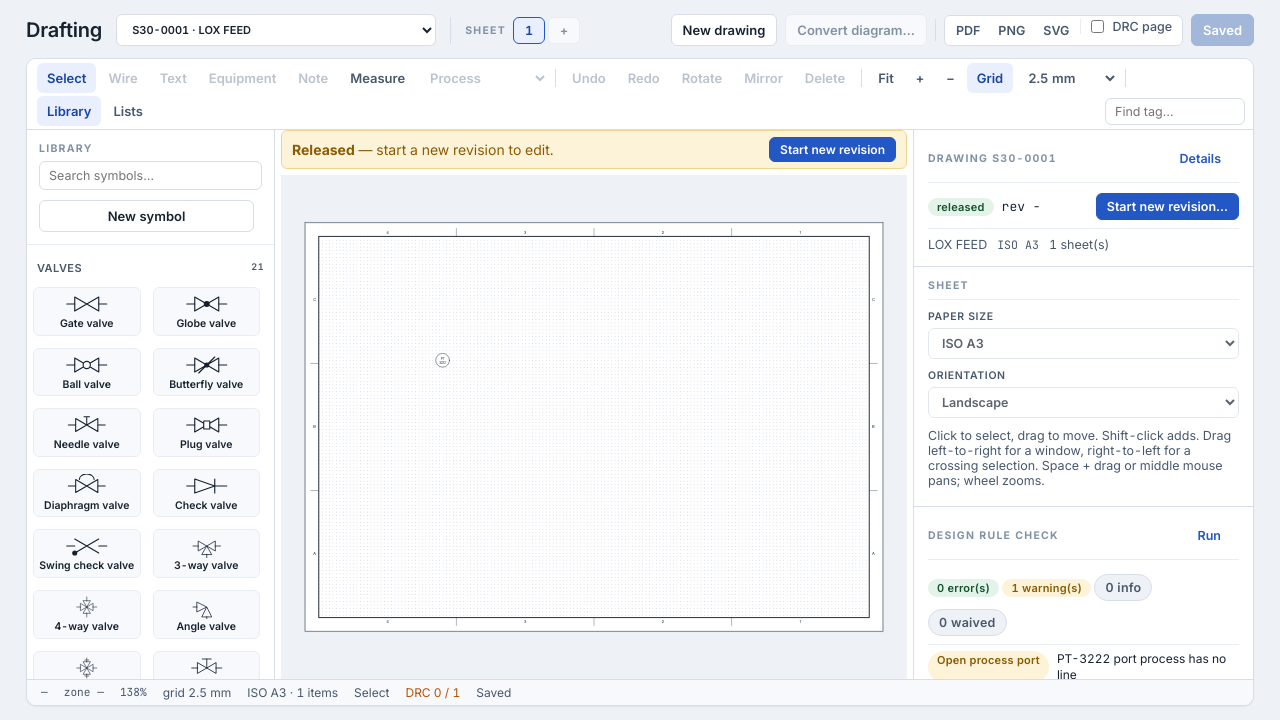
Test: DraftingPage duplicate drawing › copies a released drawing within the project and opens the copy
Click the button "Details".
click(1200, 158)  # box [1170,146,1231,171]
(page scrolled)
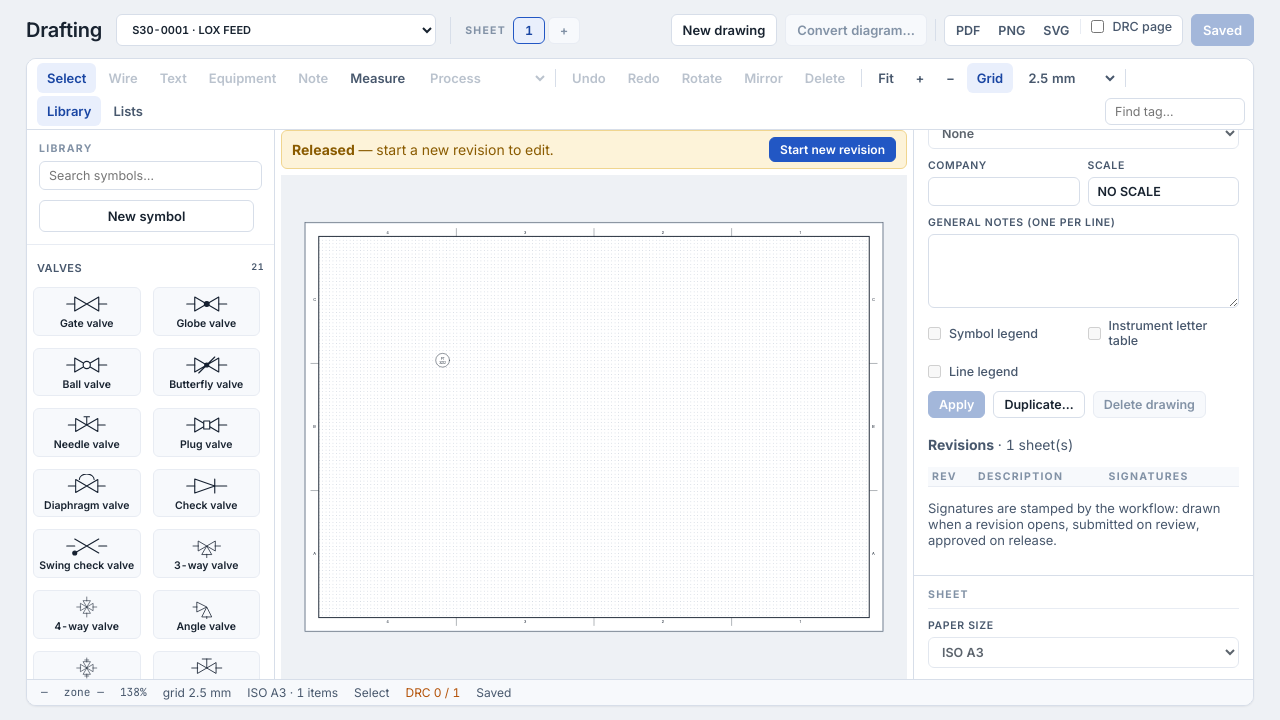
Click the button "Duplicate…".
click(1039, 404)  # box [993,391,1085,418]
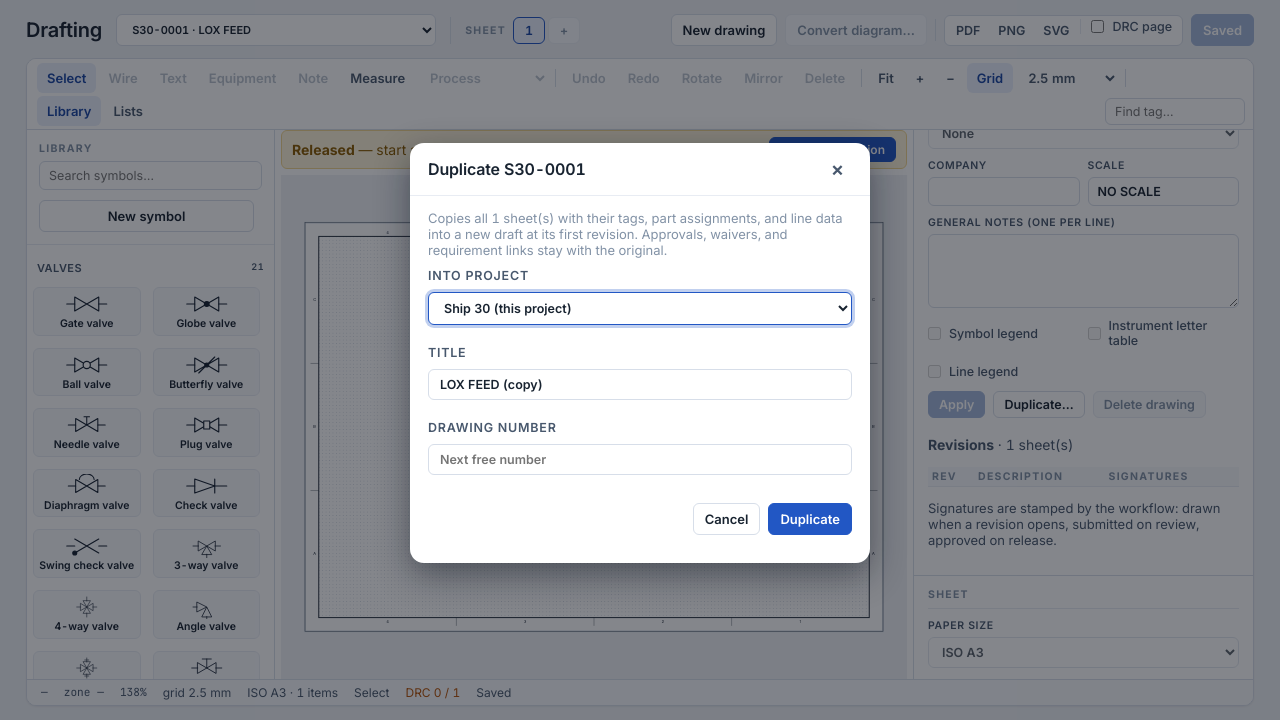
Expected: the field labelled "Title" holds "LOX FEED (copy)"
Replace the text in the field labelled "Title" with "LOX FEED B" at (640, 384), box [428,369,852,400]
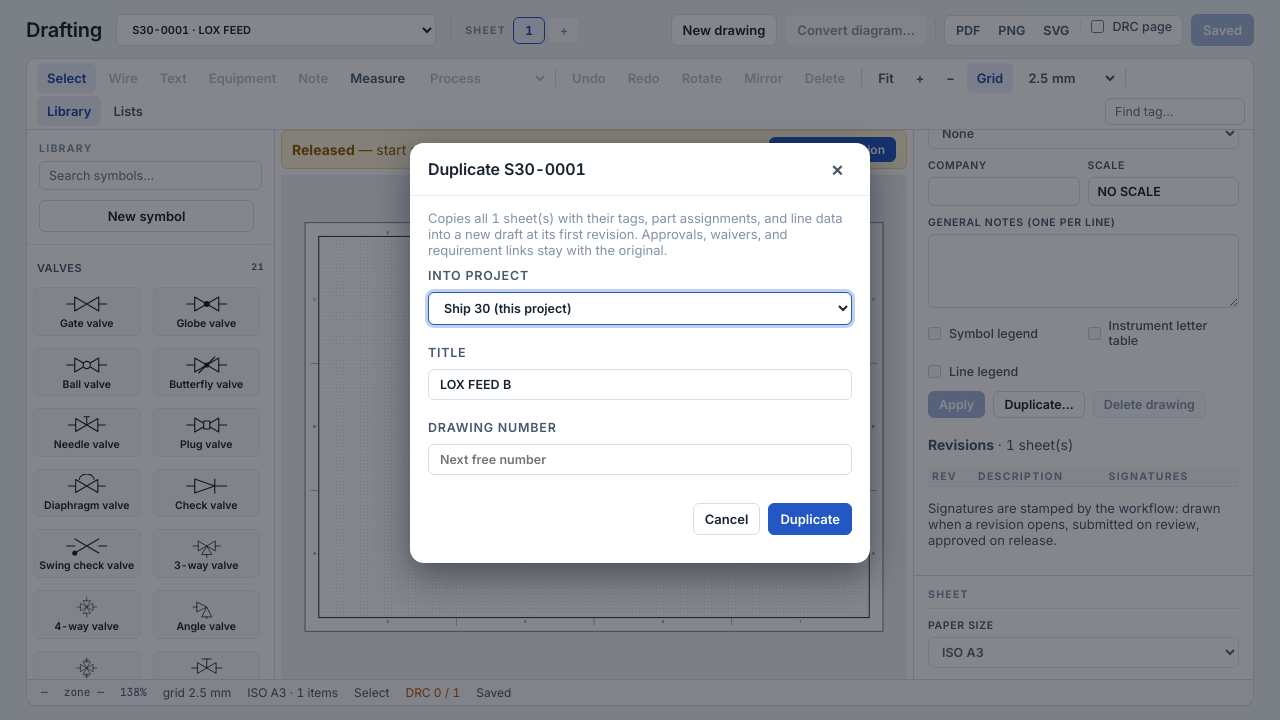
Click the button "Duplicate".
click(810, 519)  # box [768,503,852,535]
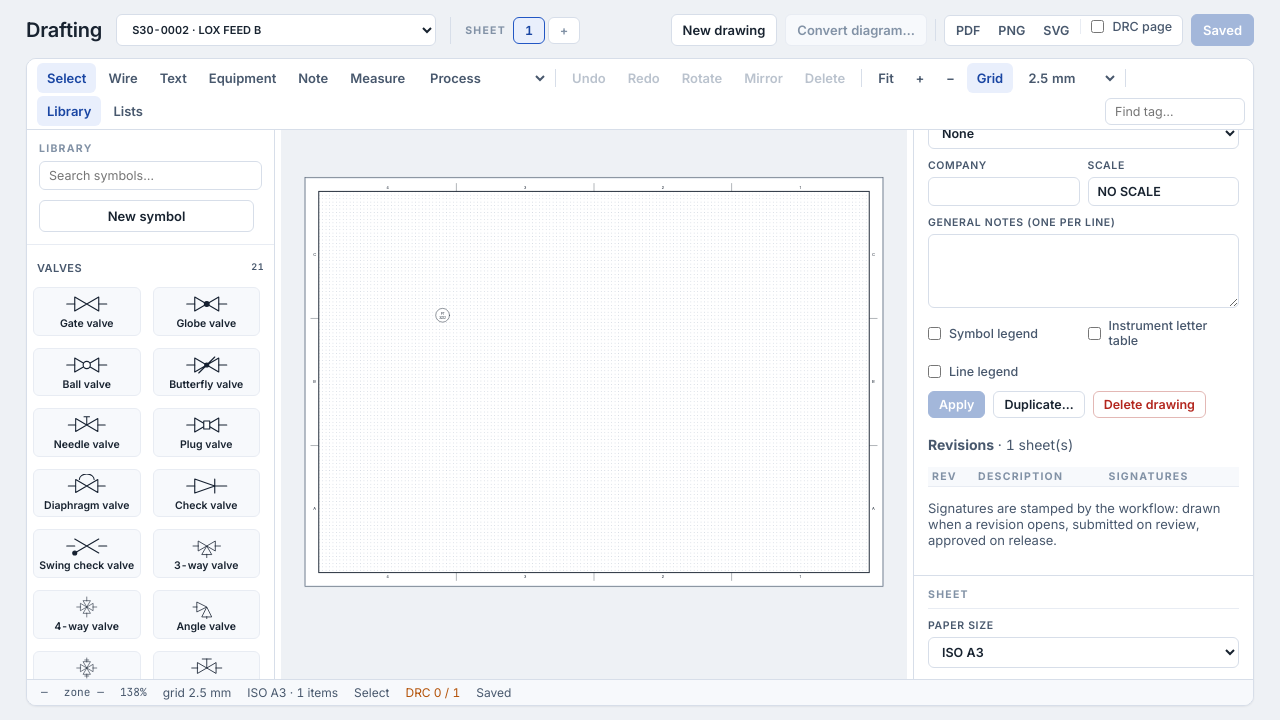
Expected: the heading "Duplicate S30-0001" is gone
Expected: the dropdown named "Drawing" shows "S30-0002 · LOX FEED B", [116,14,436,46]
